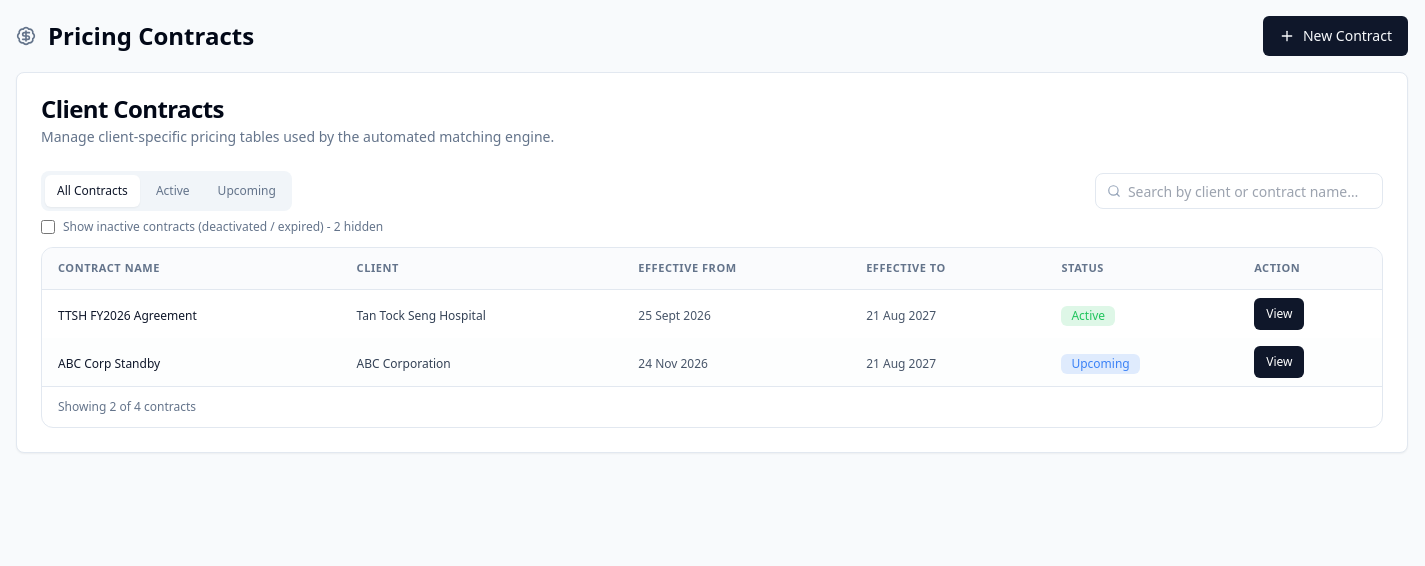
Test: PricingContractPage - derived status › distinguishes a lapsed contract (Expired) from one withdrawn early (Deactivated)
Check: the text "TTSH FY2026 Agreement" is shown, box [58, 306, 197, 324]
Click the checkbox labelled "Show inactive contracts (deactivated / expired) - 2 hidden": [48, 227] box [41, 220, 55, 234]
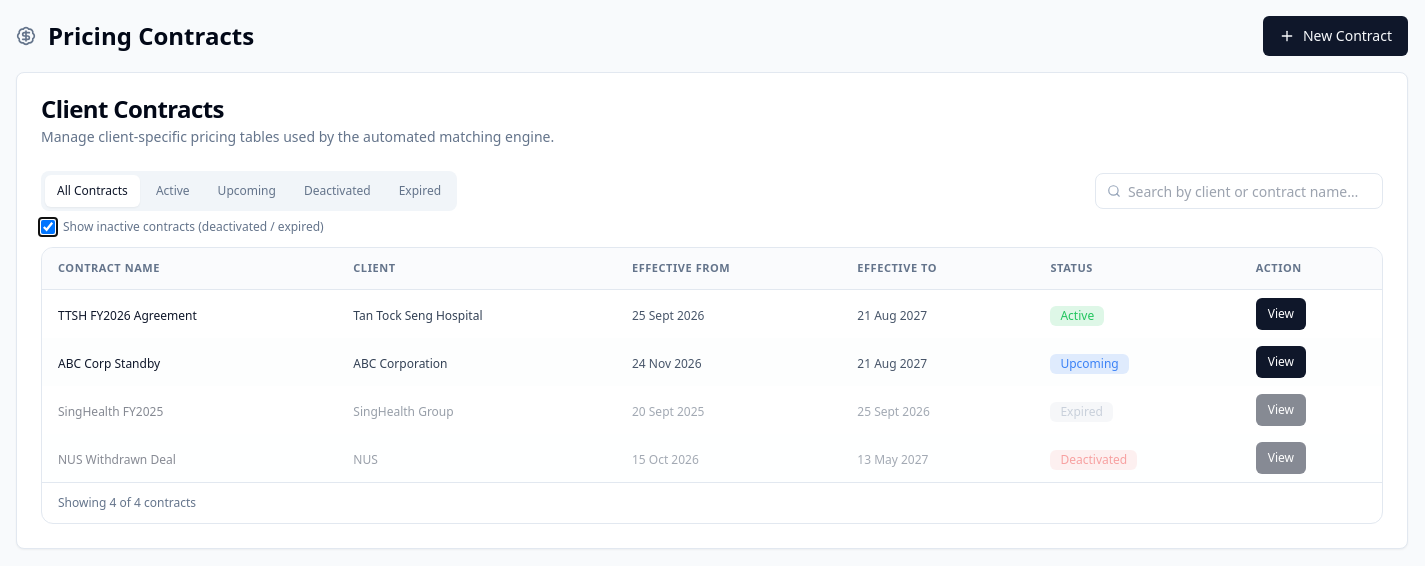
Check: the text "Expired" is shown, box [1050, 402, 1113, 422]
Check: the text "Deactivated" is shown, box [1050, 450, 1137, 470]
